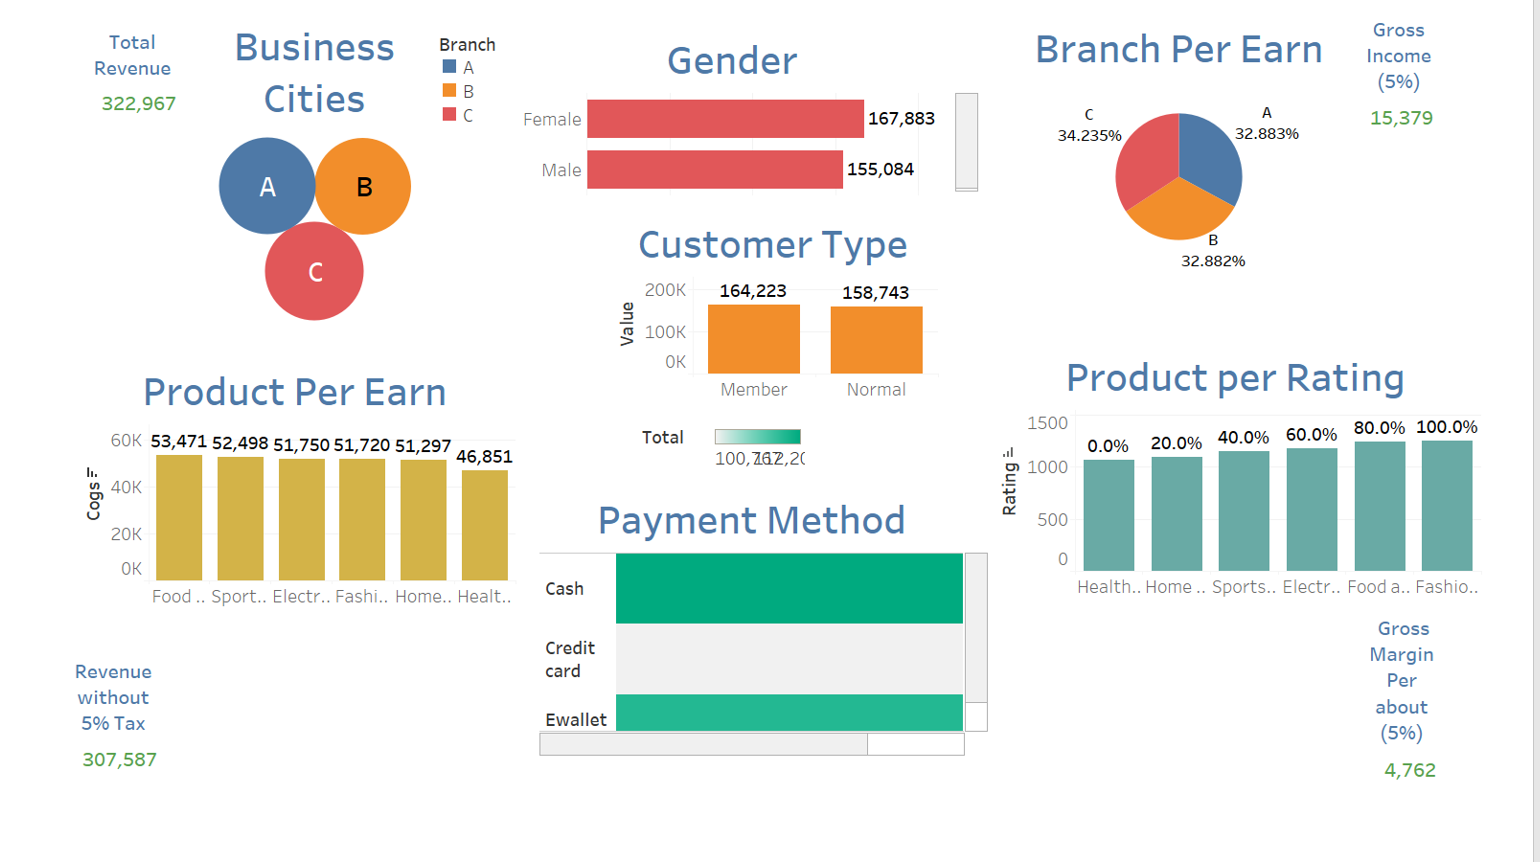

The page's visual inventory and layout, read from the dashboard file:
{"tool":"tableau","page":{"name":"Sales 2019","canvas":[1500,900],"ordinal":0},"visuals":[{"type":"worksheet","title":"Gross Income (5%)","mark":"Automatic","box":[1370,10,100,130]},{"type":"worksheet","title":"Business Cities","mark":"Circle","box":[177,13,210,327]},{"type":"worksheet","title":"Branch Per Earn","mark":"Pie","box":[1015,15,331,269]},{"type":"worksheet","title":"Total Revenue","mark":"Automatic","box":[38,23,113,131]},{"type":"worksheet","title":"Gender","mark":"Automatic","rows":["Gender"],"box":[482,27,489,183]},{"type":"legend","title":"Business Cities","param":"[federated.06ockht1ipfert1cw2l7x00e4sku].[none:Branch:nk]","box":[407,31,140,101]},{"type":"worksheet","title":"Customer Type","mark":"Automatic","cols":["Customer_type"],"box":[584,219,345,200]},{"type":"worksheet","title":"Product per Rating","mark":"Automatic","rows":["Rating"],"cols":["Product_line"],"box":[983,358,513,278]},{"type":"worksheet","title":"Product Per Earn","mark":"Automatic","rows":["cogs"],"cols":["Product_line"],"box":[27,373,461,273]},{"type":"legend","title":"Payment Method","param":"[federated.06ockht1ipfert1cw2l7x00e4sku].[sum:Total:qk]","box":[620,444,170,52]},{"type":"worksheet","title":"Payment Method","mark":"Square","rows":["Payment"],"box":[513,507,468,282]}]}

Visuals, with their boxes on the page's 1500x900 design canvas (x1, y1, x2, y2). These are canvas units, not pixel positions in the 1540x862 screenshot, which may show the page scaled, cropped or inside an application window:
"Gross Income (5%)" worksheet: locate(1370, 10, 1470, 140)
"Business Cities" worksheet (Circle marks): locate(177, 13, 387, 340)
"Branch Per Earn" worksheet (Pie marks): locate(1015, 15, 1346, 284)
"Total Revenue" worksheet: locate(38, 23, 151, 154)
"Gender" worksheet: locate(482, 27, 971, 210)
"Business Cities" legend: locate(407, 31, 547, 132)
"Customer Type" worksheet: locate(584, 219, 929, 419)
"Product per Rating" worksheet: locate(983, 358, 1496, 636)
"Product Per Earn" worksheet: locate(27, 373, 488, 646)
"Payment Method" legend: locate(620, 444, 790, 496)
"Payment Method" worksheet (Square marks): locate(513, 507, 981, 789)
